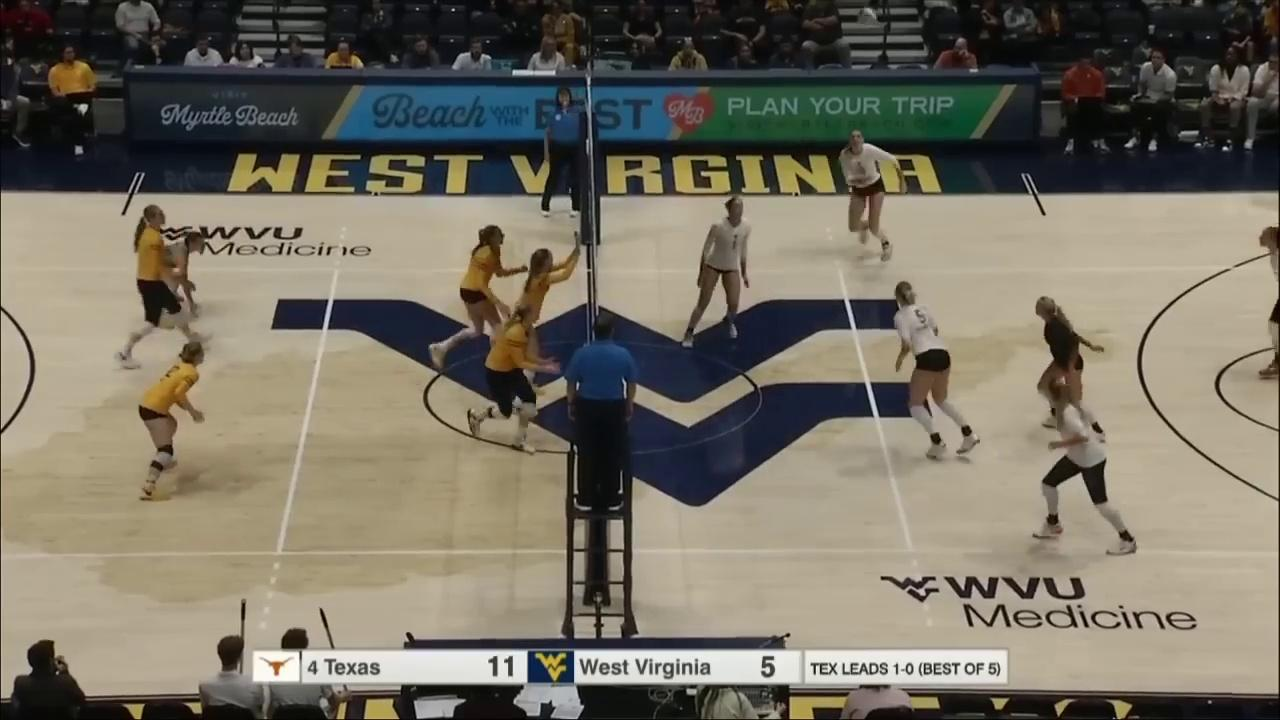player: (1037, 377, 1137, 555), (893, 281, 981, 461), (117, 204, 213, 365), (427, 223, 526, 366), (464, 306, 555, 452), (509, 232, 581, 414), (1034, 296, 1111, 443), (138, 343, 207, 501), (682, 195, 753, 347), (839, 131, 909, 264), (142, 229, 211, 323), (1257, 223, 1280, 383)
refree: (567, 311, 639, 516), (541, 85, 589, 219)
